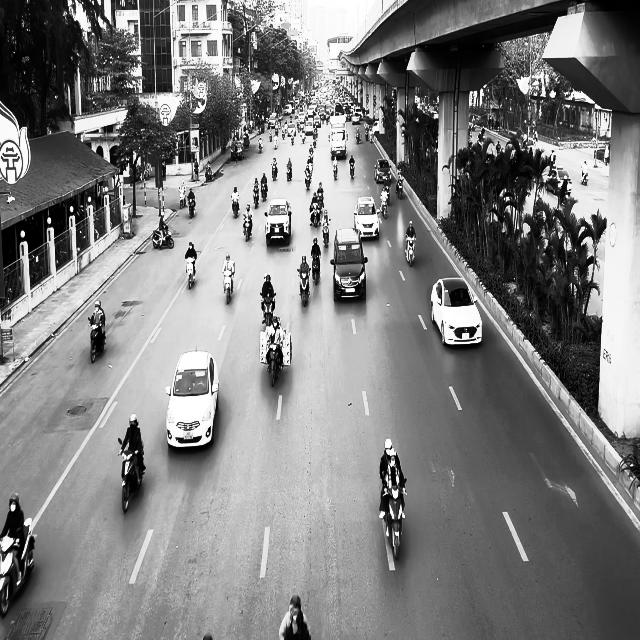car: (165, 348, 219, 449), (430, 277, 482, 347), (330, 228, 368, 302), (264, 197, 292, 246), (353, 196, 379, 240), (545, 166, 572, 195), (374, 158, 392, 183)
motorbike: (0, 518, 35, 618), (118, 438, 145, 514), (382, 481, 406, 560), (88, 316, 106, 362), (266, 341, 283, 387), (260, 292, 276, 327), (152, 225, 174, 250), (222, 264, 235, 304), (297, 268, 310, 306), (404, 234, 416, 266), (185, 256, 196, 288), (311, 253, 321, 284), (242, 215, 252, 241), (322, 218, 330, 246), (232, 196, 239, 218), (381, 196, 388, 218), (179, 186, 186, 208), (396, 178, 403, 199), (188, 198, 195, 218), (581, 167, 588, 185), (286, 164, 292, 182), (272, 163, 278, 181), (253, 190, 259, 208), (333, 159, 338, 179), (205, 168, 212, 181), (349, 160, 354, 178)
